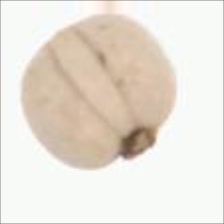L5: (43, 23, 133, 130), (113, 124, 163, 163)
L6: (20, 11, 179, 173)
